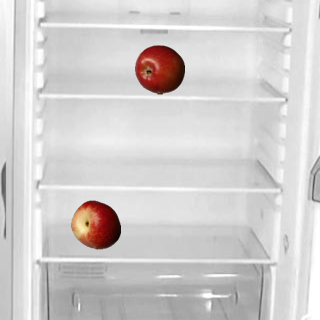Apple Braeburn: (134, 44, 184, 94)
Nectarine: (70, 199, 120, 249)
